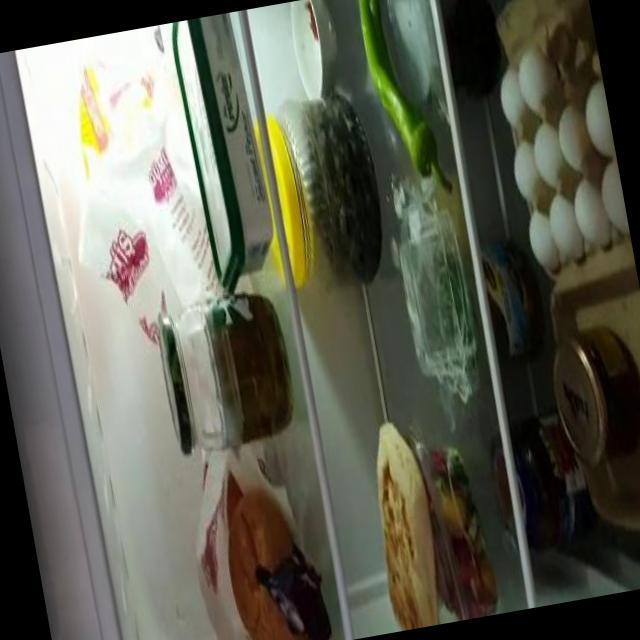Cebolla: (258, 541, 333, 640)
Huevos: (498, 43, 633, 265)
bazlama: (360, 422, 446, 632)
bread: (218, 486, 313, 640)
cream: (170, 11, 278, 291)
green chilies: (355, 0, 445, 194)
olives: (306, 88, 389, 281)
